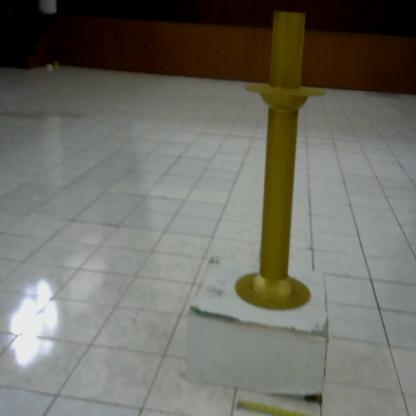pole: (230, 1, 333, 323)
